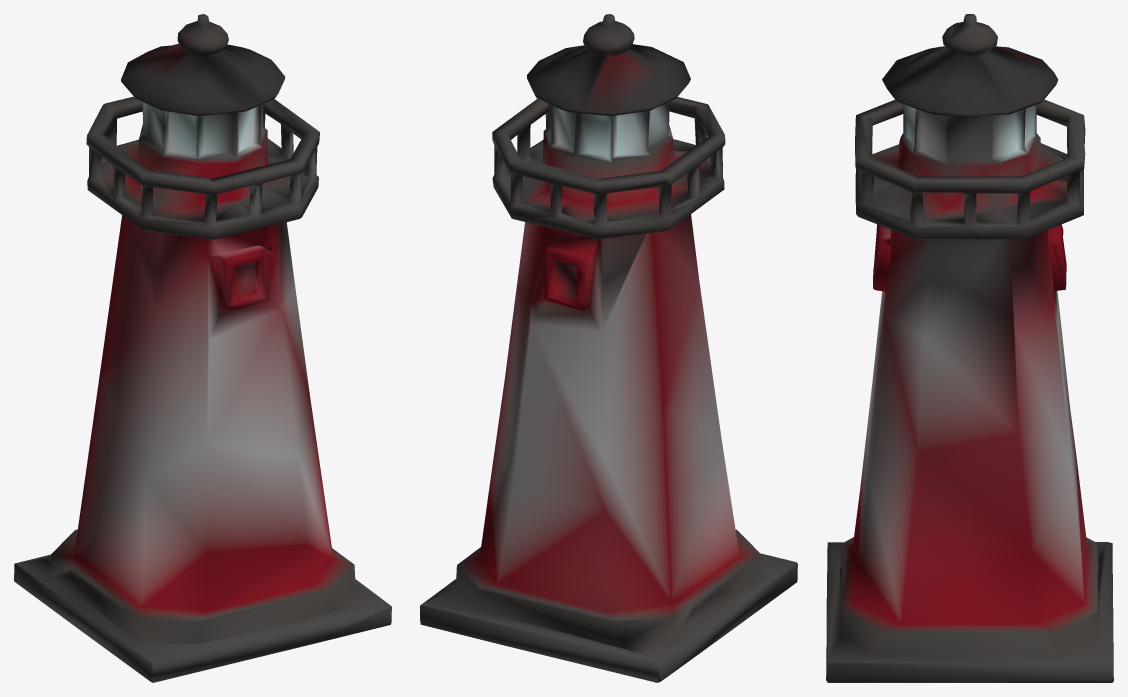
Rendered from gen3d-lighthouse-lod1.glb.
3 renders of one model, left to right at view 1: azimuth 30°, elevation 25°; view 2: azimuth 150°, elevation 25°; view 3: azimuth 270°, elevation 25°, orthographic. The views are drawn at different scales.
Visible parts, largest first — view 1: part_0; view 2: part_0; view 3: part_0.
Boxes of the visible parts, left/top/right/bottom form: part_0: left=14, top=14, right=391, bottom=682; part_0: left=420, top=14, right=797, bottom=682; part_0: left=826, top=14, right=1113, bottom=682.
Size of the model in its own units: 0.4282 by 0.9973 by 0.4279.
